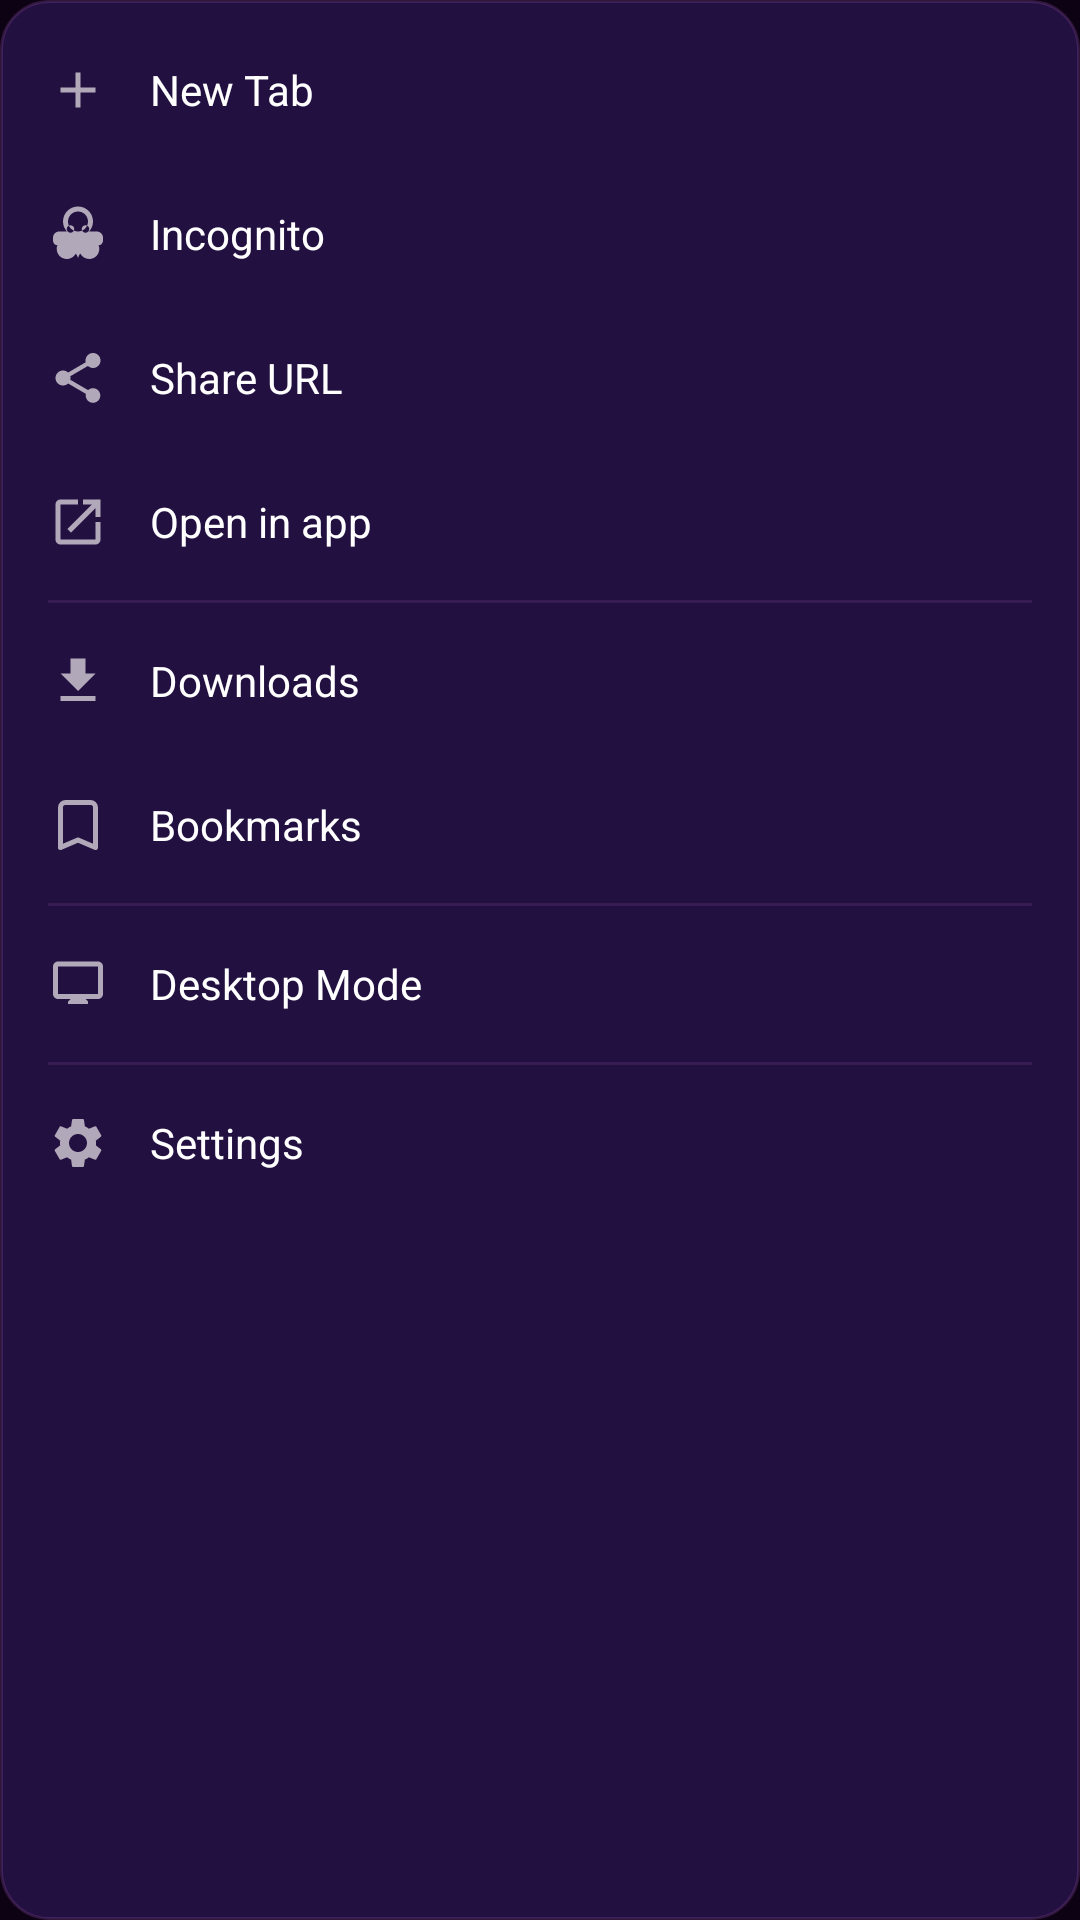

Named icons in this screenshot (1080×1920) and their centers, (x=x, y=y):
add: (x=78, y=90)
